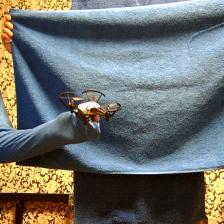drone: (58, 89, 122, 121)
